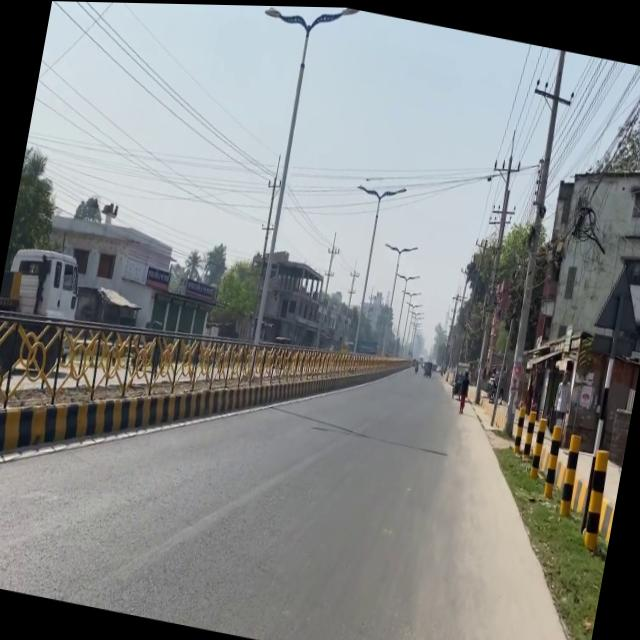Bench: (491, 401, 628, 550)
Fallen-tree: (421, 358, 434, 375), (411, 356, 419, 371)
Pole: (0, 290, 213, 491)
Traffic-cone: (0, 239, 86, 385)
